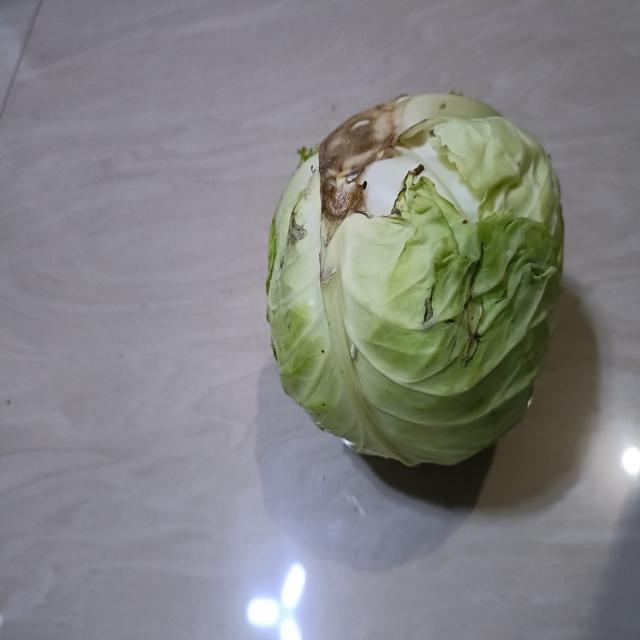cabbage: (272, 86, 565, 467)
